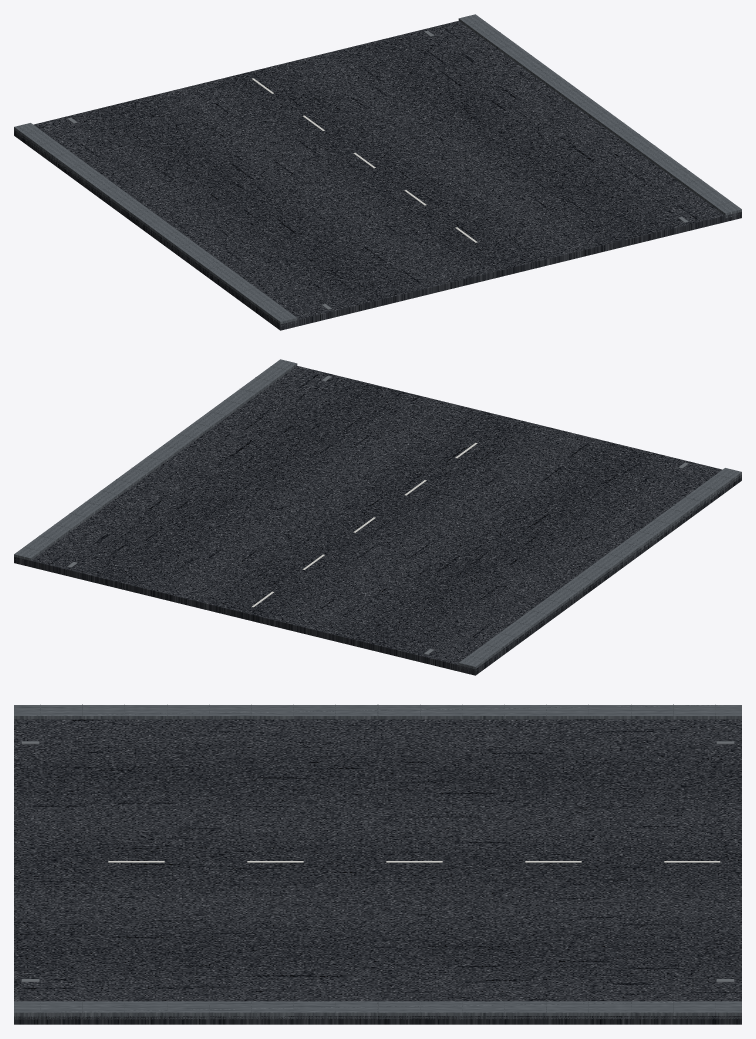
File: street_segment_22m.glb
3 renders of one model, top to bottom at view 1: azimuth 30°, elevation 25°; view 2: azimuth 150°, elevation 25°; view 3: azimuth 270°, elevation 25°, orthographic. The views are drawn at different scales.
Visible parts, largest first — view 1: asphalt_underlay_1, raised_sidewalk_2, raised_sidewalk_20; view 2: asphalt_underlay_1, raised_sidewalk_2, raised_sidewalk_20; view 3: asphalt_underlay_1, raised_sidewalk_20, raised_sidewalk_2.
Boxes of the visible parts, x1,y1,x2,y2 form: asphalt_underlay_1: (14, 21, 741, 330); raised_sidewalk_2: (14, 123, 297, 326); raised_sidewalk_20: (458, 14, 741, 218); asphalt_underlay_1: (14, 366, 741, 675); raised_sidewalk_2: (458, 468, 741, 670); raised_sidewalk_20: (14, 359, 297, 560); asphalt_underlay_1: (14, 719, 741, 1024); raised_sidewalk_20: (14, 1001, 741, 1019); raised_sidewalk_2: (14, 705, 741, 719).
Bounding box in the file's own units: 22.02 × 0.4105 × 22.
Materials: 6 (2 with a texture image).
